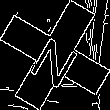N_NE: (25, 23, 85, 87)
